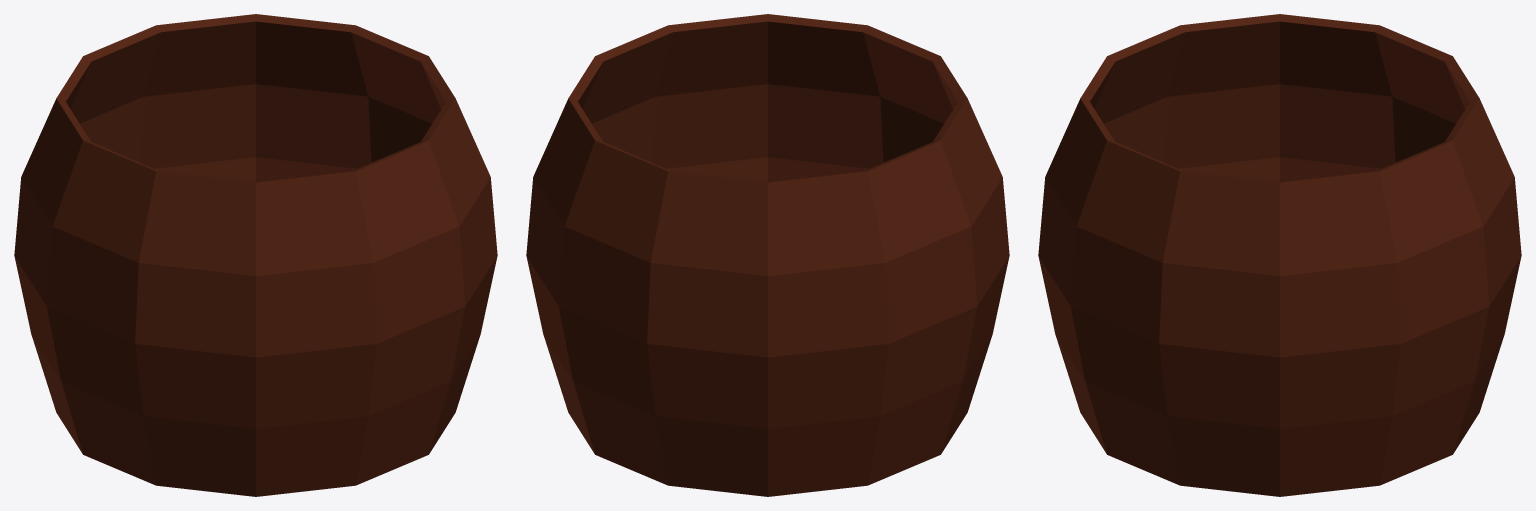
The model's file is pot2.fbx.
The picture shows the model from 3 angles, left to right: view 1: azimuth 30°, elevation 25°; view 2: azimuth 150°, elevation 25°; view 3: azimuth 270°, elevation 25°; orthographic projection.
Parts seen in each view (by area): view 1: pot2; view 2: pot2; view 3: pot2.
Boxes of the visible parts, <box> form: pot2: <box>14,14,497,496</box>; pot2: <box>526,14,1009,496</box>; pot2: <box>1038,14,1521,496</box>.
Bounding box in the file's own units: 47.11 × 33.8 × 47.11.
